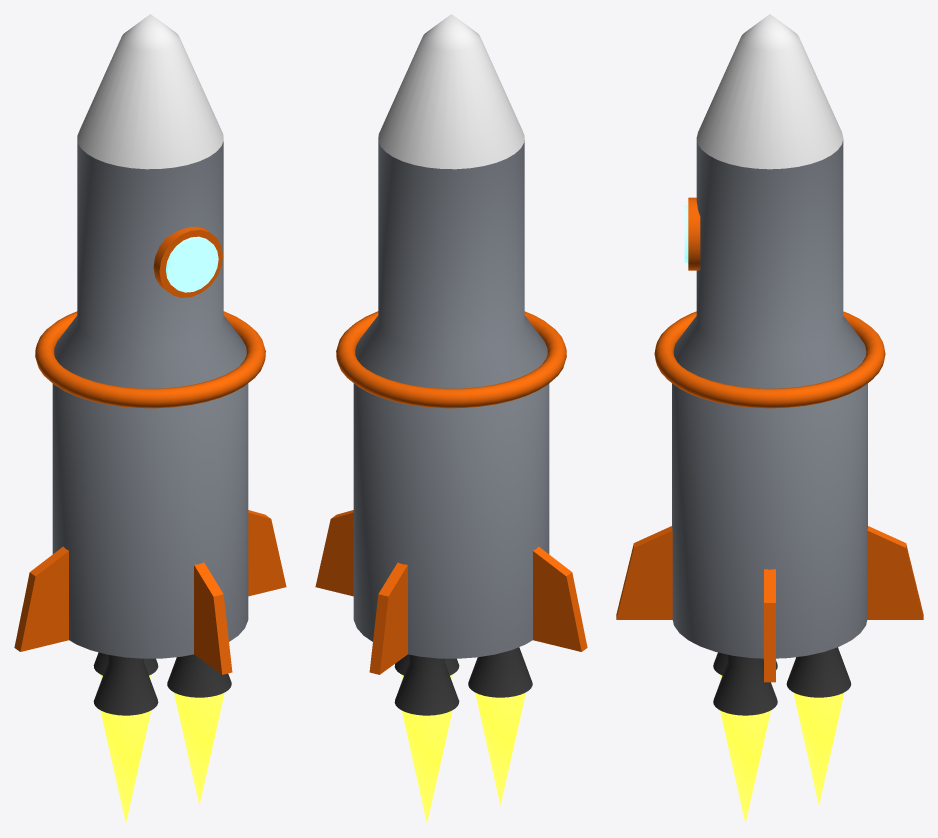
Rendered from Rocket_15_TwinStack.fbx.
3 views of the same model, side by side, from view 1: azimuth 30°, elevation 25°; view 2: azimuth 150°, elevation 25°; view 3: azimuth 270°, elevation 25° (orthographic).
Visible parts, largest first — view 1: R15_Body, R15_Nose, R15_Ring_1, R15_Fin_2, R15_Fin_3, R15_Nozzle_2, R15_Flame_3, R15_Flame_2, R15_Fin_4, R15_Window_1, R15_Nozzle_3, R15_WindowFrame_1; view 2: R15_Body, R15_Nose, R15_Ring_1, R15_Fin_2, R15_Fin_1, R15_Nozzle_1, R15_Flame_1, R15_Flame_2, R15_Fin_4, R15_Nozzle_2; view 3: R15_Body, R15_Nose, R15_Ring_1, R15_Fin_1, R15_Fin_3, R15_Nozzle_3, R15_Flame_1, R15_Flame_3, R15_Nozzle_1, R15_Fin_4, R15_WindowFrame_1.
Boxes of the visible parts, x1,y1,x2,y2 form: R15_Body: (52,140,248,658); R15_Nose: (77,14,223,169); R15_Ring_1: (35,311,265,408); R15_Fin_2: (14,546,68,651); R15_Fin_3: (194,562,232,674); R15_Nozzle_2: (93,654,158,715); R15_Flame_3: (174,692,224,805); R15_Flame_2: (100,710,150,822); R15_Fin_4: (248,510,286,596); R15_Window_1: (166,236,218,292); R15_Nozzle_3: (167,654,231,697); R15_WindowFrame_1: (153,226,222,297); R15_Body: (353,140,549,658); R15_Nose: (378,14,524,169); R15_Ring_1: (336,311,566,408); R15_Fin_2: (533,546,587,651); R15_Fin_1: (369,562,407,674); R15_Nozzle_1: (394,654,459,715); R15_Flame_1: (401,710,452,822); R15_Flame_2: (475,692,525,805); R15_Fin_4: (315,510,353,596); R15_Nozzle_2: (468,647,532,697); R15_Body: (672,139,867,658); R15_Nose: (696,14,843,169); R15_Ring_1: (654,311,885,408); R15_Fin_1: (867,526,923,619); R15_Fin_3: (616,526,672,619); R15_Nozzle_3: (713,654,777,715); R15_Flame_1: (793,692,844,805); R15_Flame_3: (720,710,770,823); R15_Nozzle_1: (786,647,851,697); R15_Fin_4: (764,569,775,682); R15_WindowFrame_1: (688,197,700,270).
Size of the model in its own units: 3.14 by 8.93 by 3.14.
